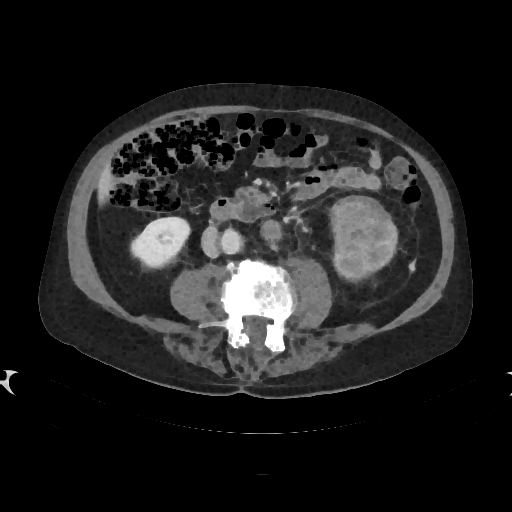Lesion: (325, 193, 401, 282)
